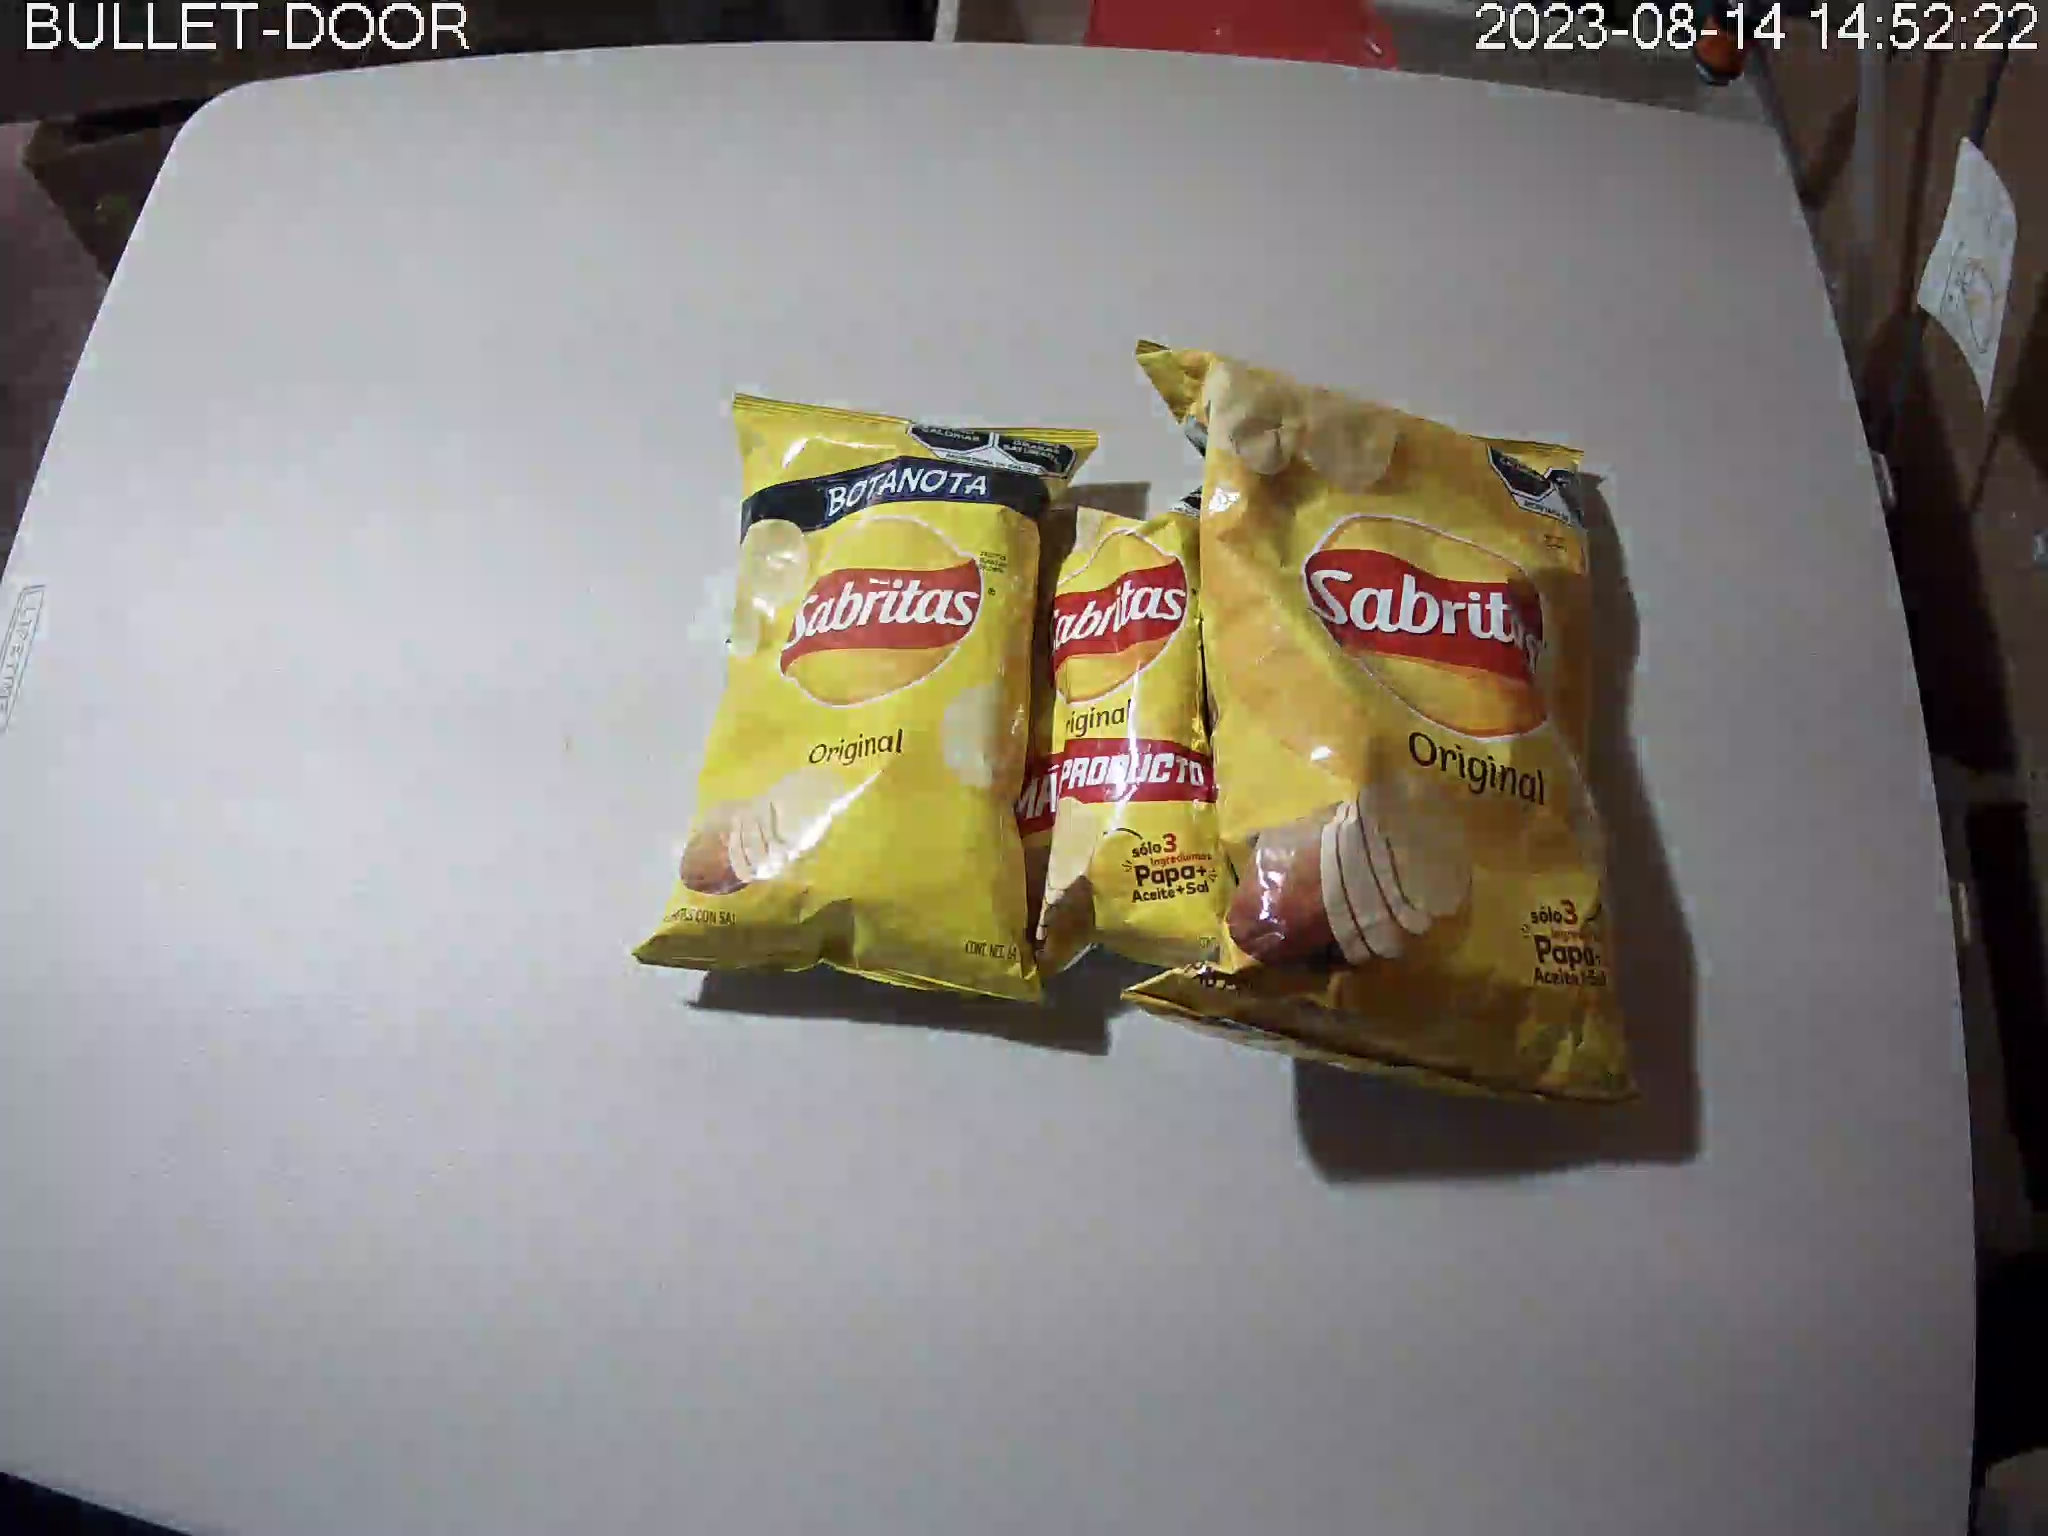Sabritas_160_F: (1116, 340, 1651, 1117)
Sabritas_45_F: (964, 487, 1261, 979)
Sabritas_64_F: (632, 390, 1101, 1008)
